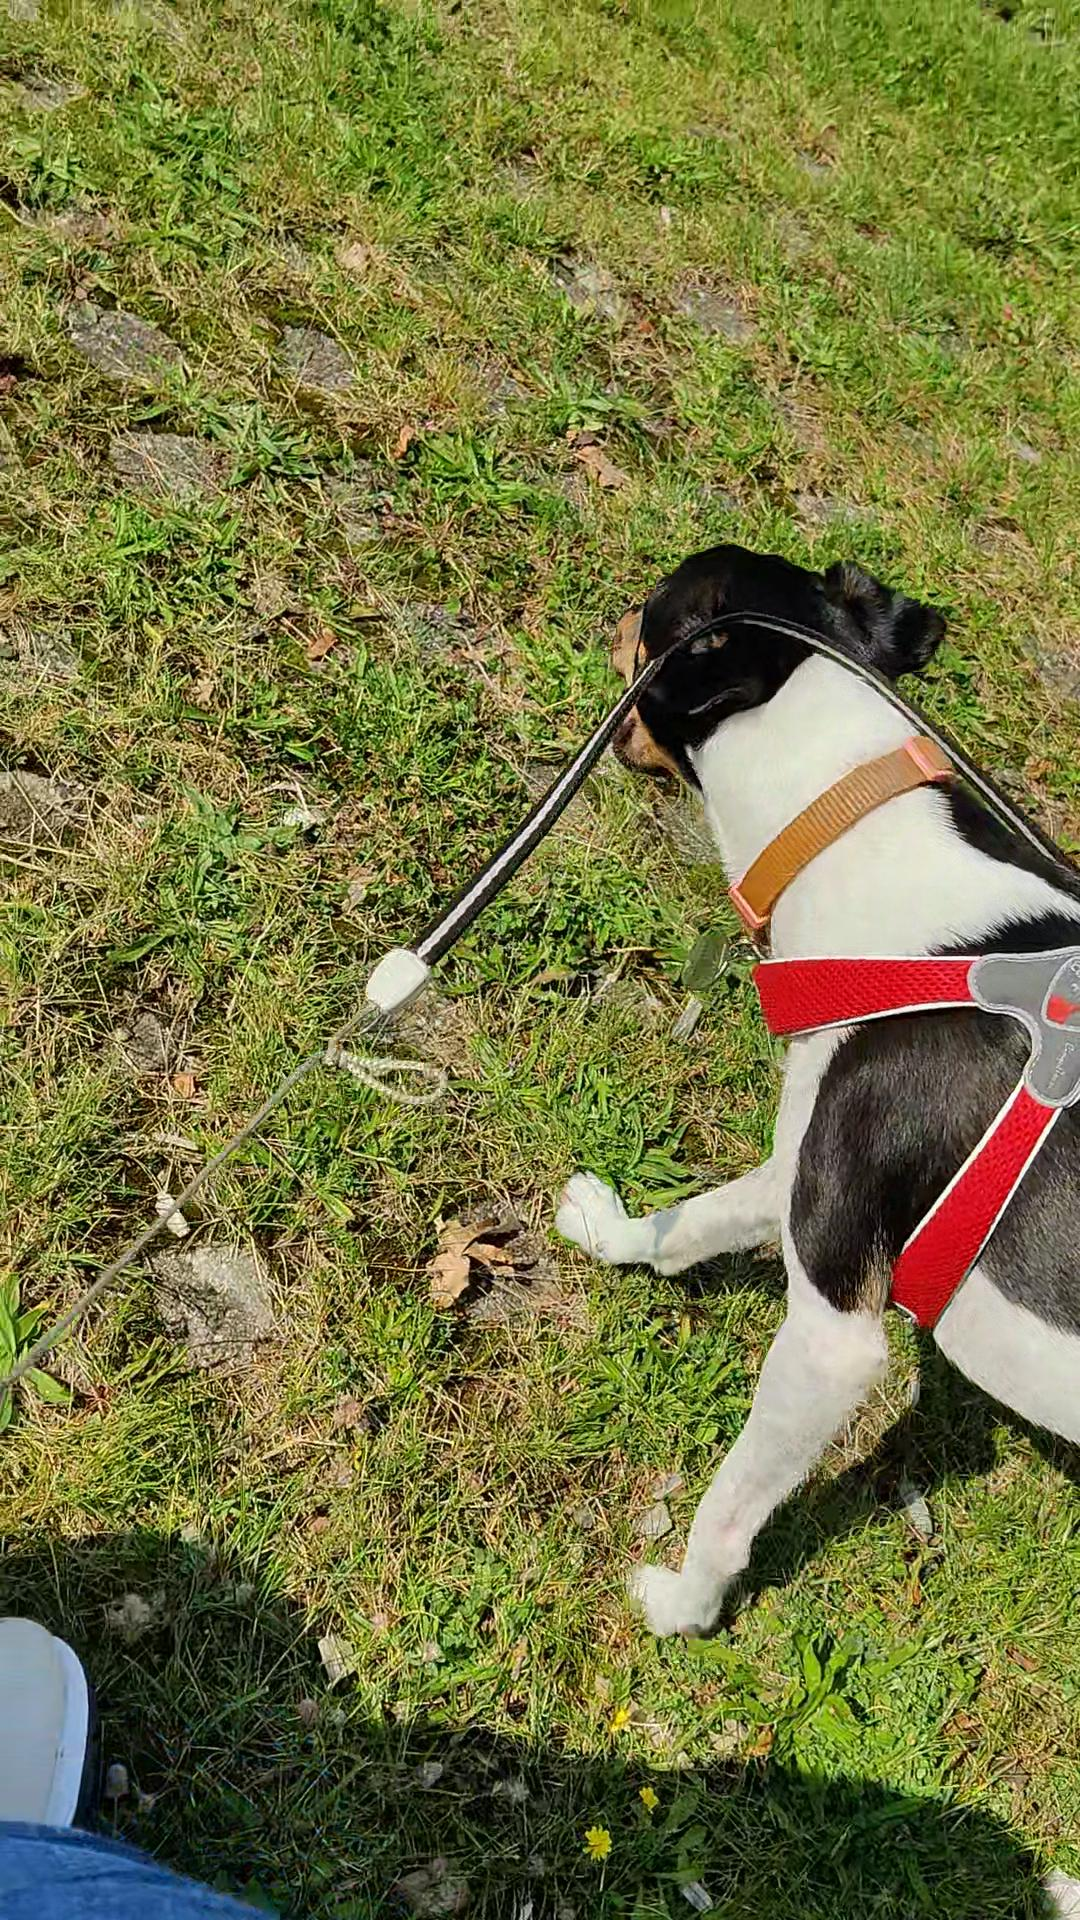Dog: (546, 541, 1079, 1646)
